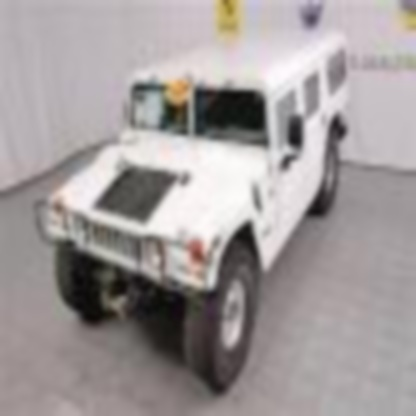Vehicle: (37, 40, 356, 401)
